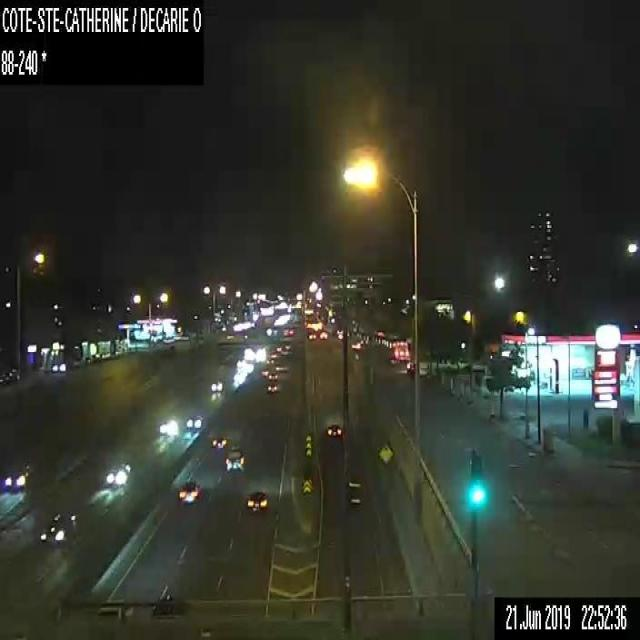construction: (449, 376, 454, 392), (525, 420, 529, 437), (440, 370, 444, 386), (490, 400, 494, 415)
vehicle: (39, 512, 77, 544), (4, 463, 32, 490), (106, 460, 130, 483), (246, 489, 268, 512), (390, 339, 410, 363), (224, 446, 243, 471), (179, 480, 198, 502), (0, 367, 19, 385), (159, 420, 178, 436), (186, 416, 202, 428), (326, 424, 341, 436), (212, 435, 227, 447), (211, 381, 224, 391), (351, 340, 363, 349), (266, 384, 276, 392), (268, 372, 277, 379), (307, 332, 315, 339), (319, 331, 326, 338), (260, 369, 268, 375), (266, 358, 273, 363), (270, 352, 276, 357), (276, 346, 281, 350)
